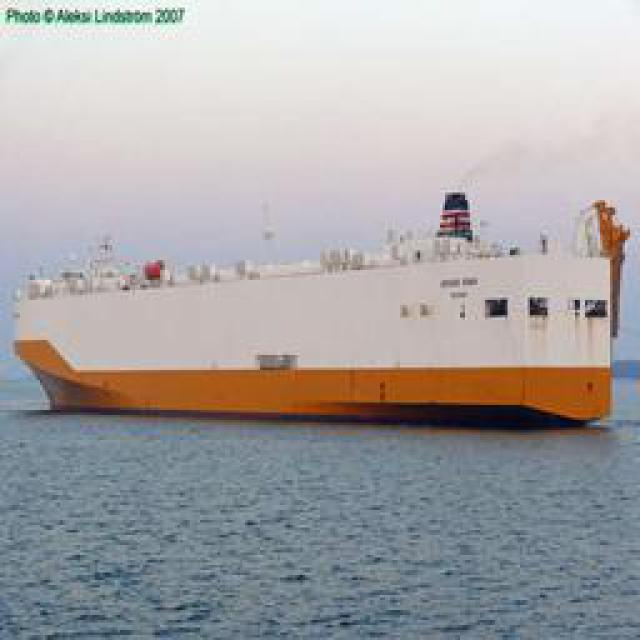Ship: (19, 231, 619, 431)
